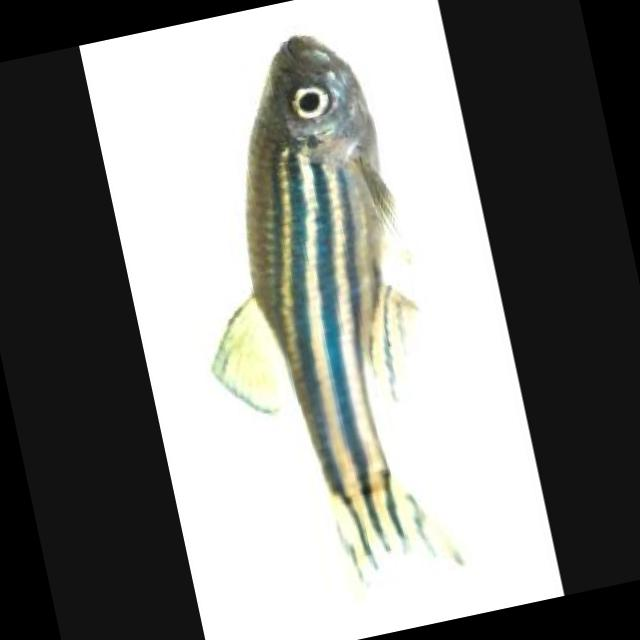ZebraFish: (143, 19, 479, 622)
